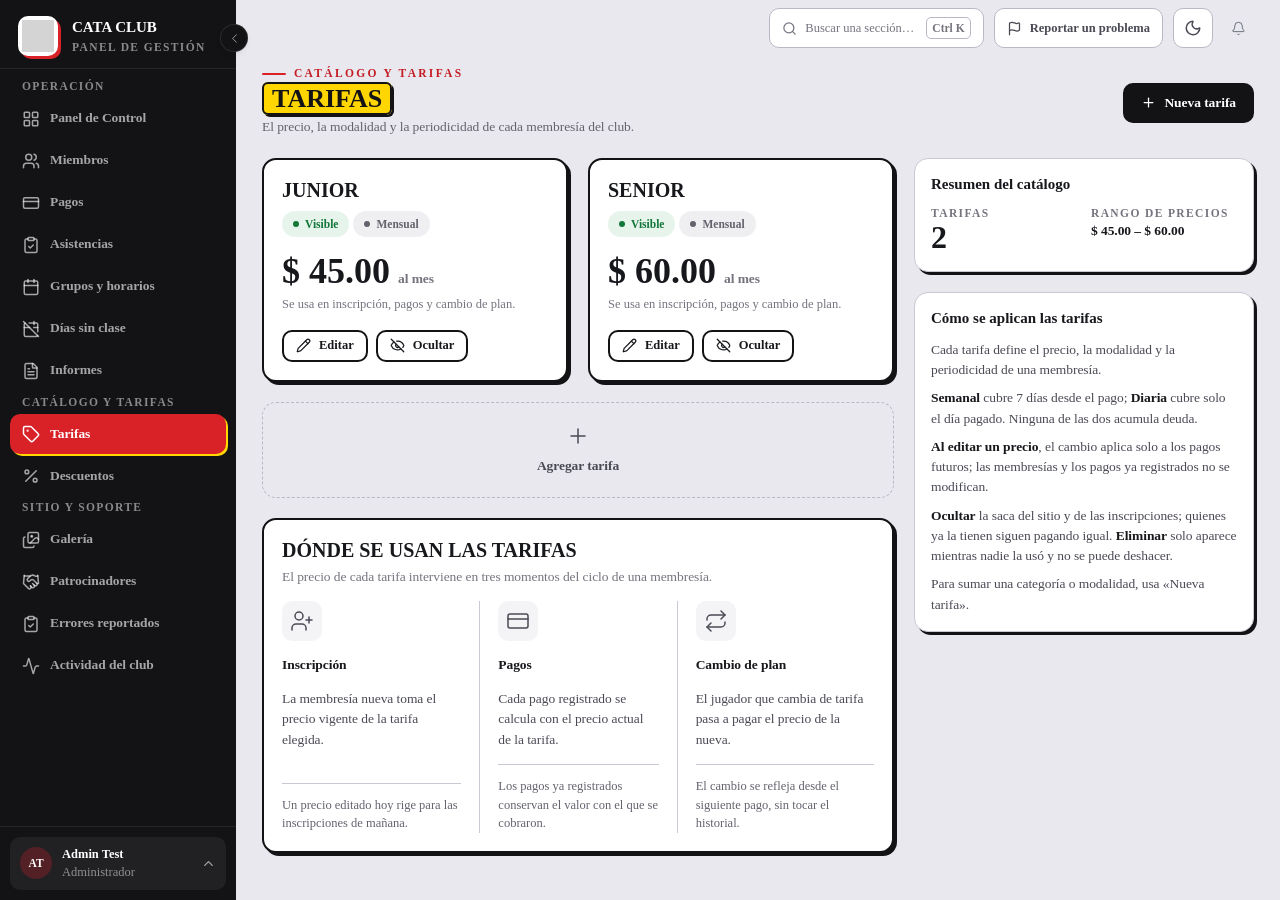
Test: TarifasPage — editar precio › rejects a 0 price (cero) without reaching the API
Click the button "Editar" below "Junior": (325, 346) [282,330,368,362]
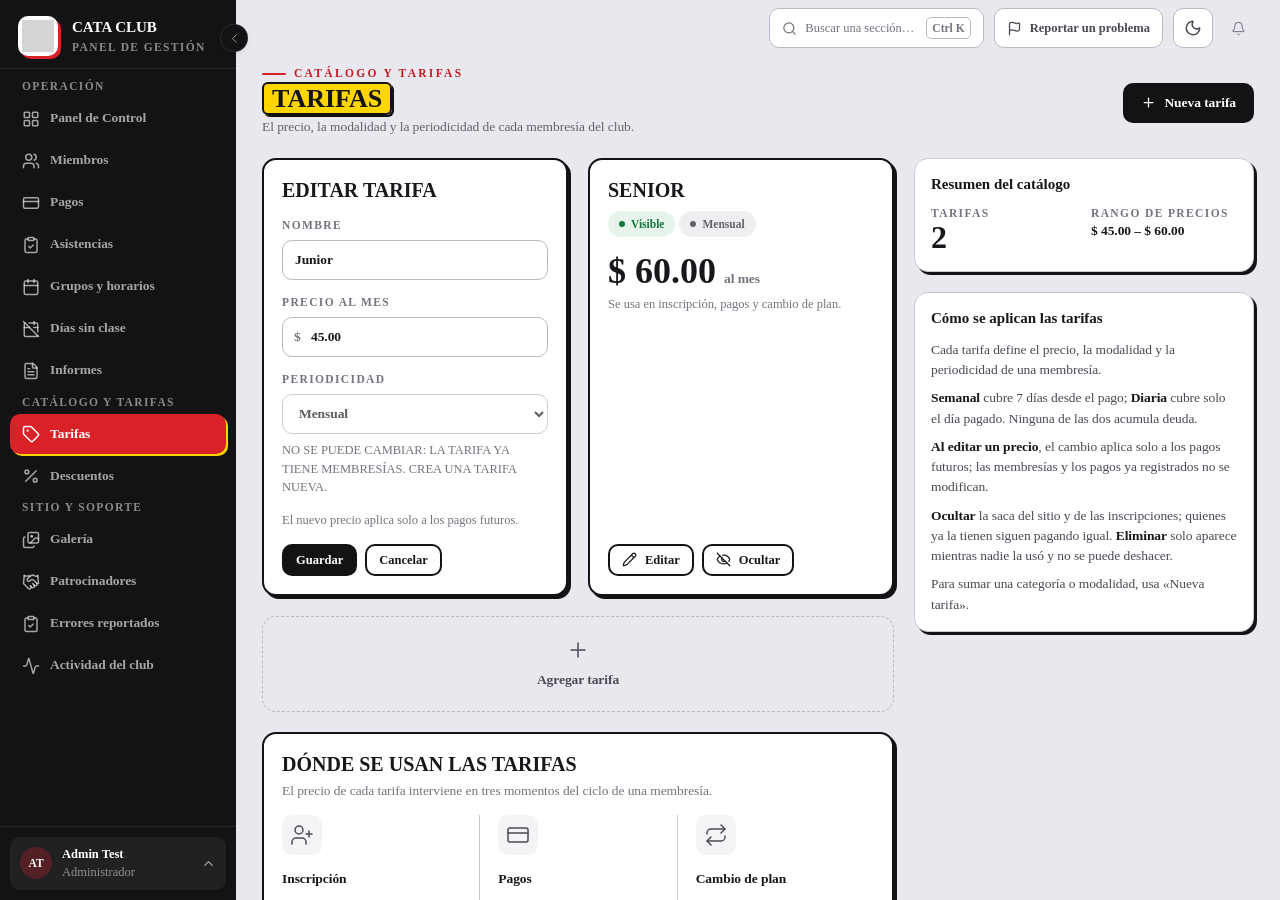
Replace the text in the field named "precio de junior" with "0": (415, 337) [282,317,548,357]
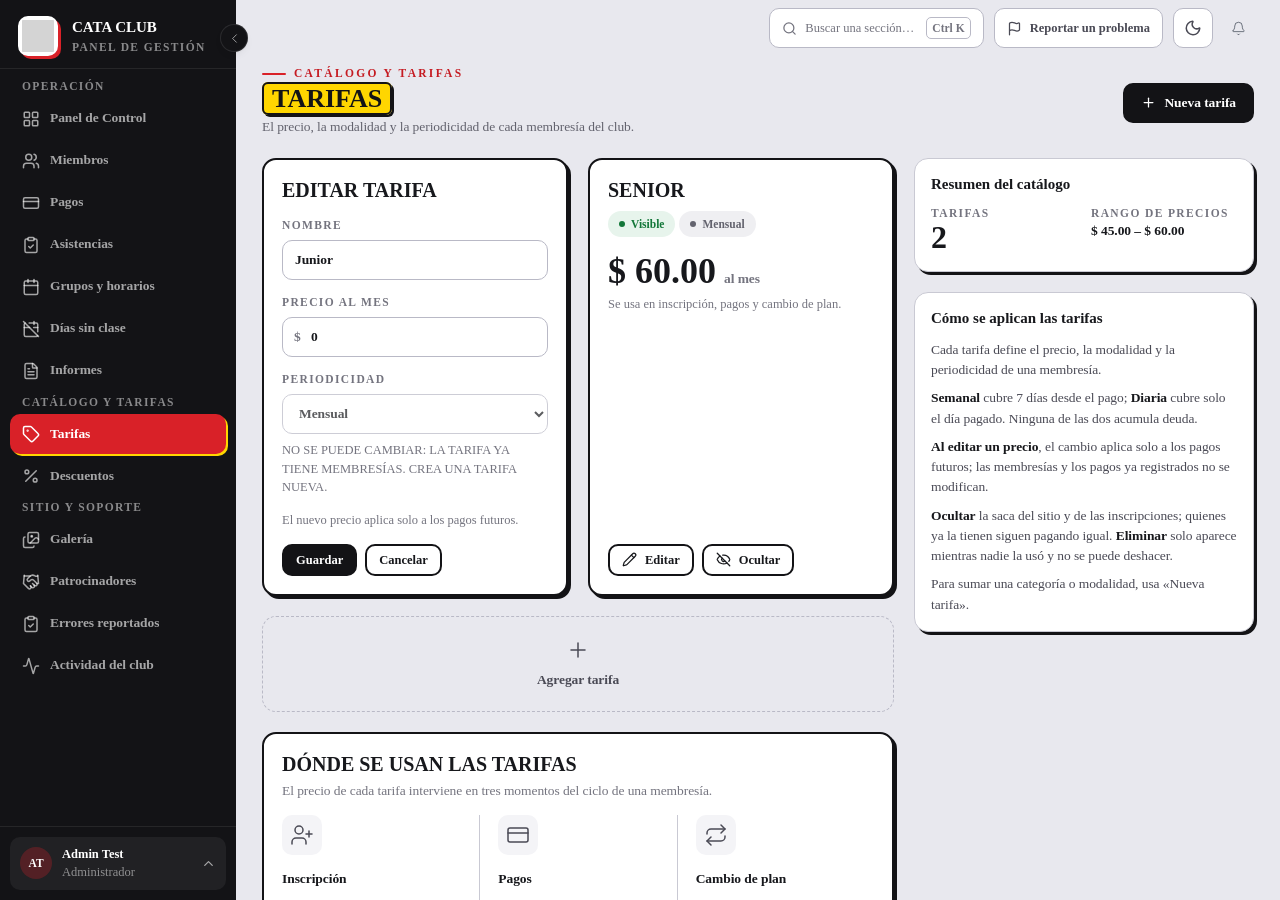
Click the button "Guardar": (320, 560) [282,544,357,576]
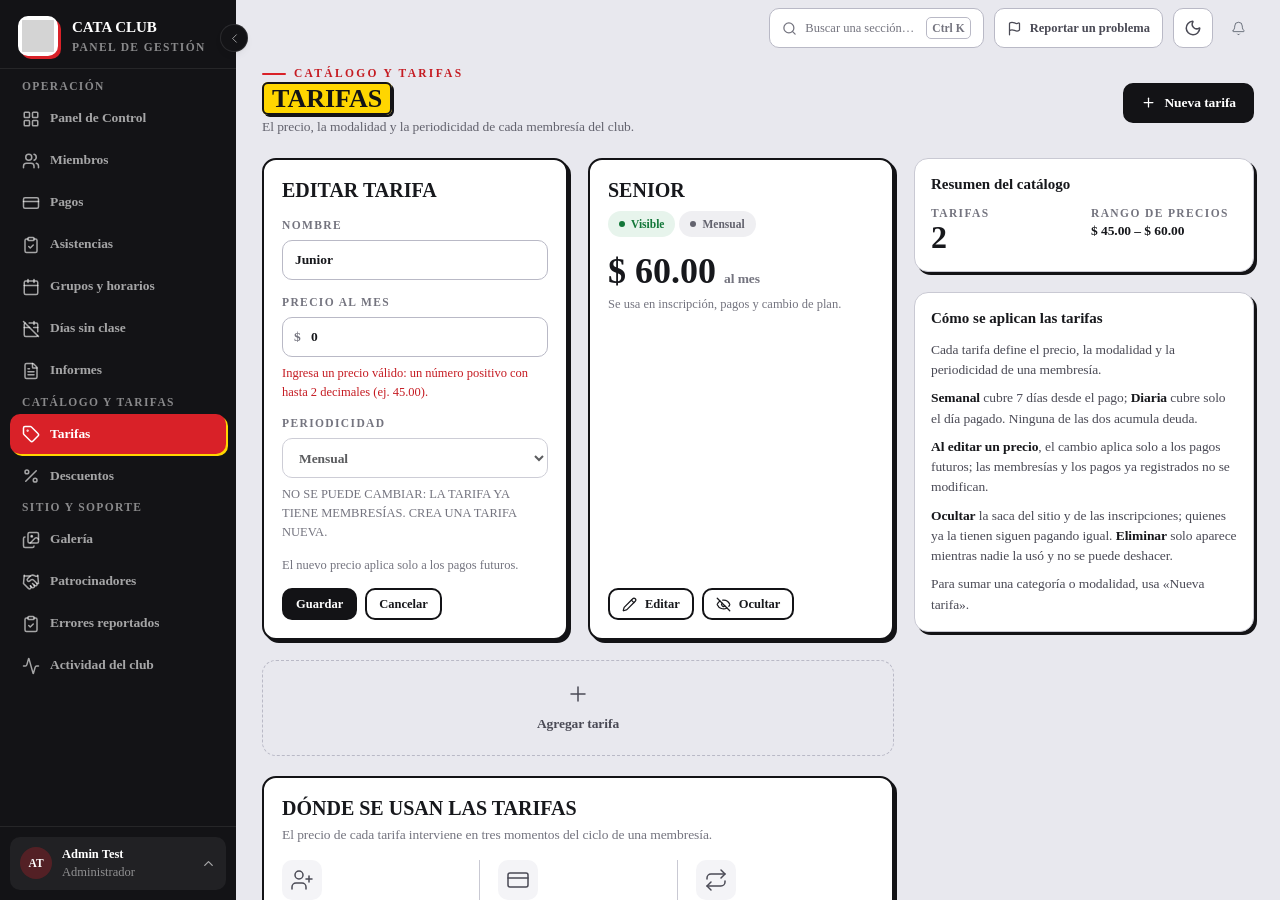
Check: the text "precio válido" is shown, box [282,366,528,399]
